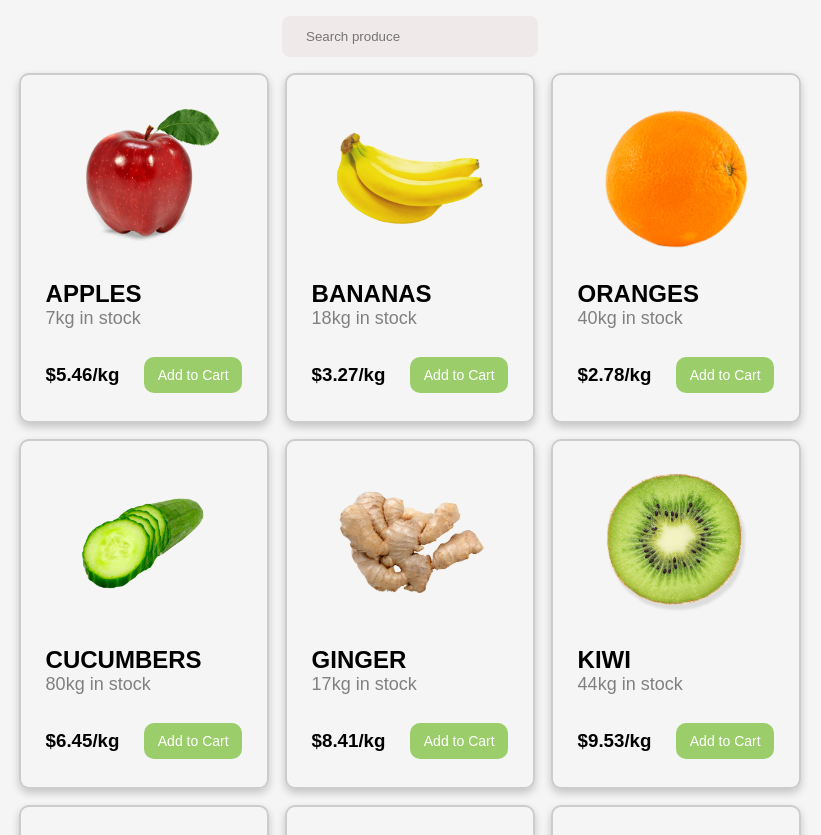
Test: StorePage › Item in stock should change when the add to cart button is clicked
Click the button "Add to Cart" in the row of "3.27".
click(459, 375)  # box left=410, top=357, right=508, bottom=393
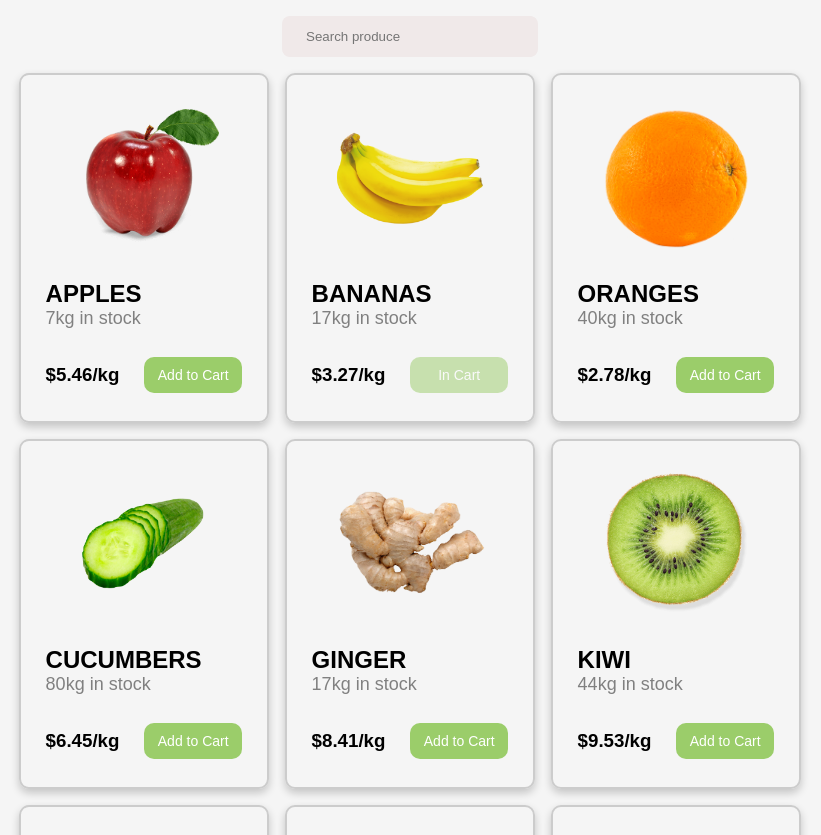
Now the text "18kg in stock" below "BANANAS" reads "17kg in stock", box left=312, top=308, right=417, bottom=329
